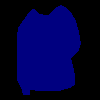felpa: (16, 4, 80, 95)
